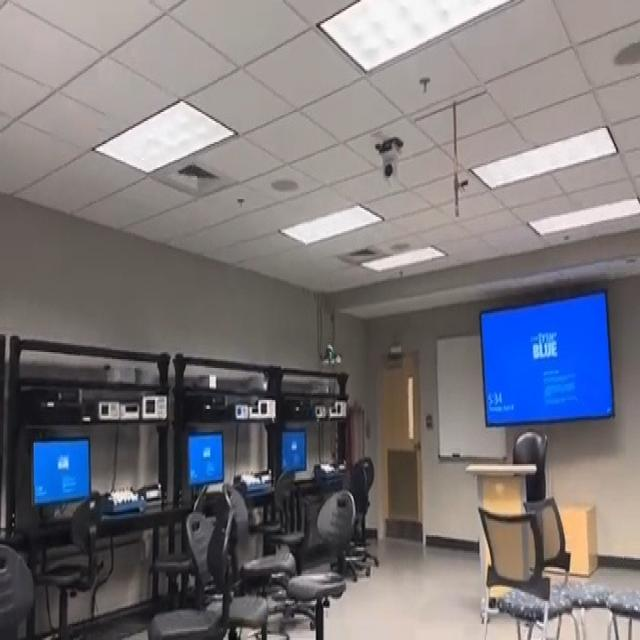drone: (312, 330, 348, 376)
